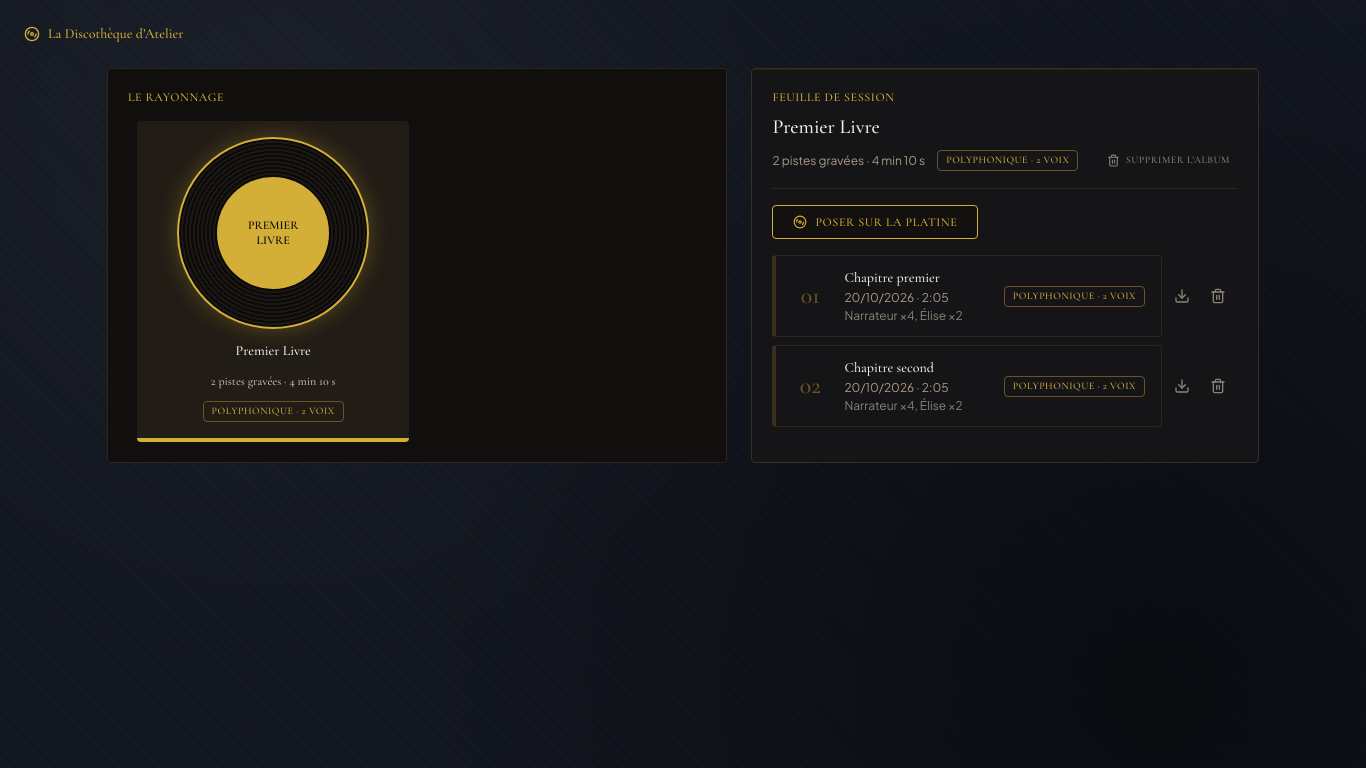
it: DiscothequeView › suppression des enregistrements › deletes every track of the album and empties the shelf
Click the button "Supprimer l’album" at (1168, 160), box [1099,149,1238,172]
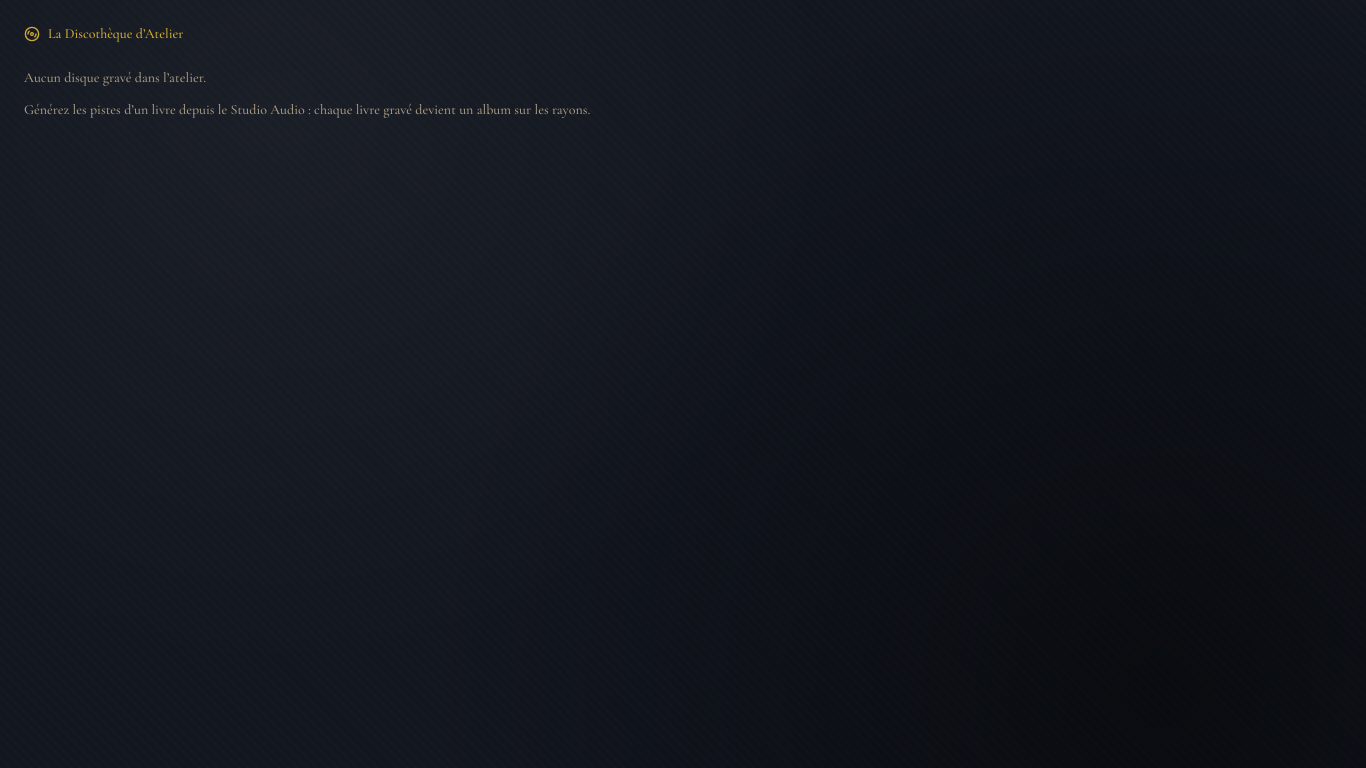
Expected: the text "Aucun disque gravé dans l’atelier." is shown, [24,68,206,88]
